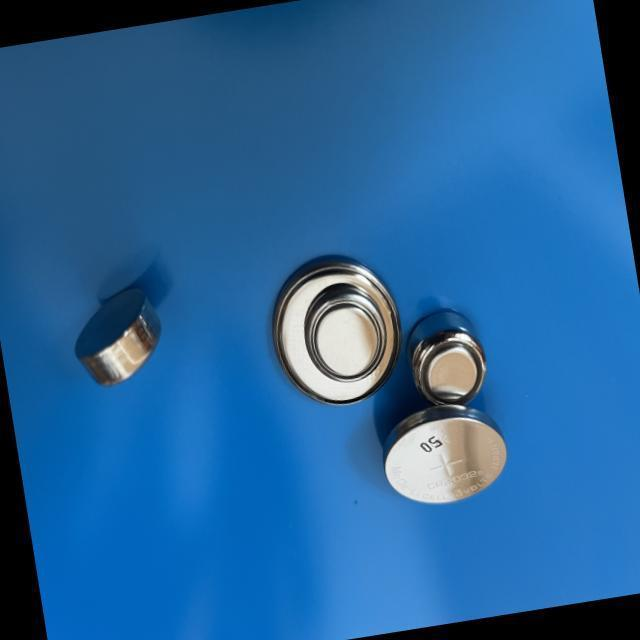COIN: (259, 243, 411, 413), (372, 392, 518, 515), (65, 278, 172, 394), (293, 279, 395, 388), (396, 302, 494, 414)
